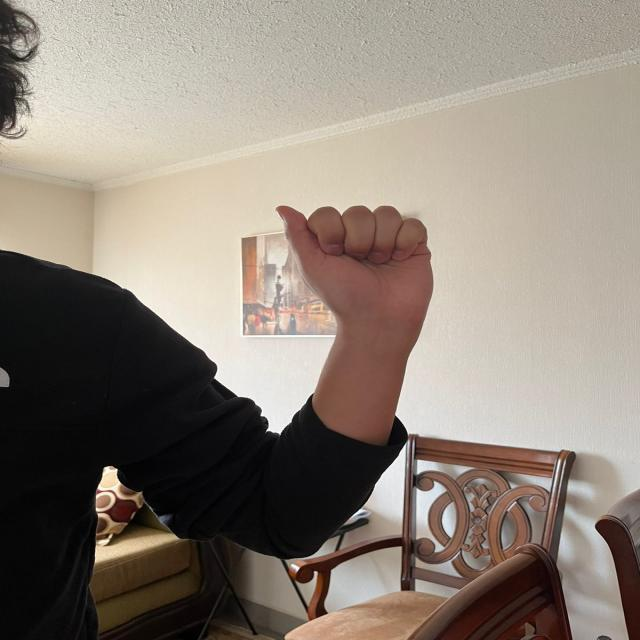A: (269, 195, 443, 333)
